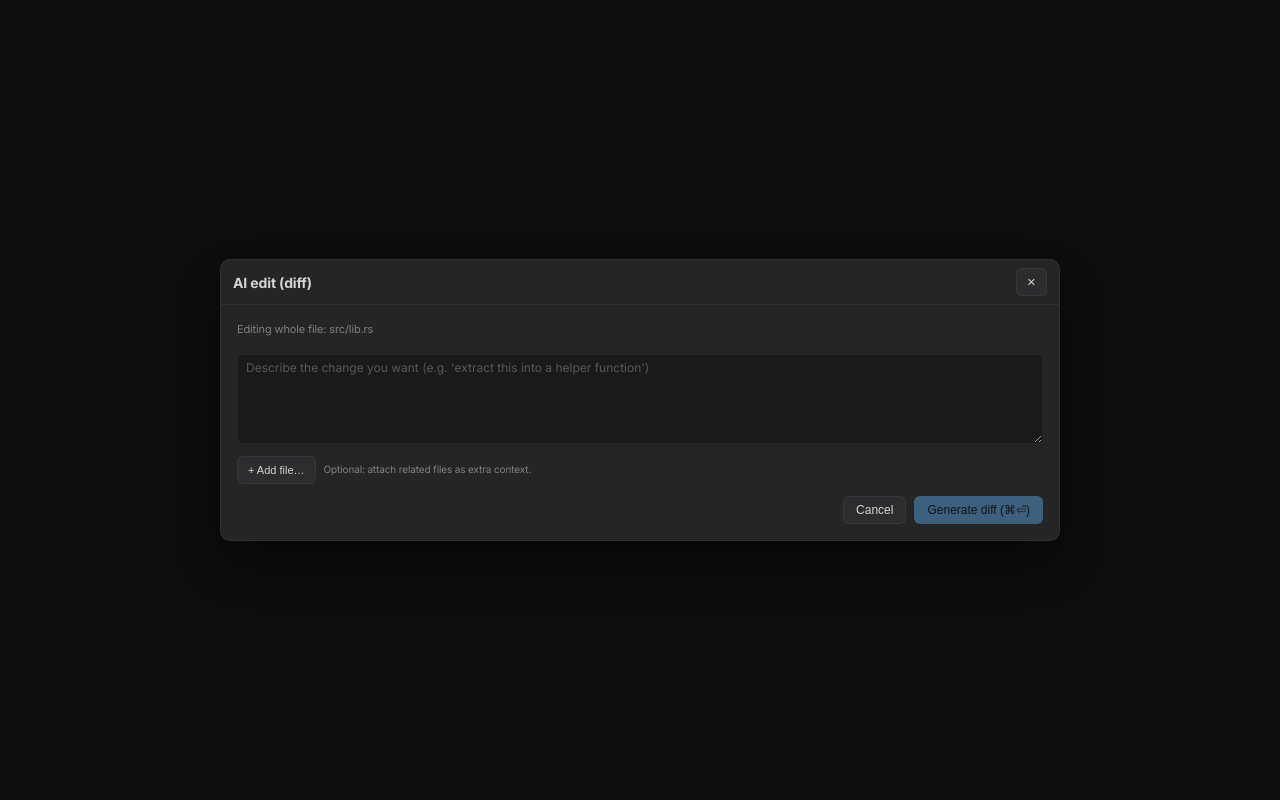
Scenario: DiffCompleteModal — flow › shows error phase when the backend returns an unclean diff
This screenshot has width=1280, height=800.
Replace the text in the text box with placeholder "Describe the change" with "x" at (640, 399), box [237,354,1043,444]
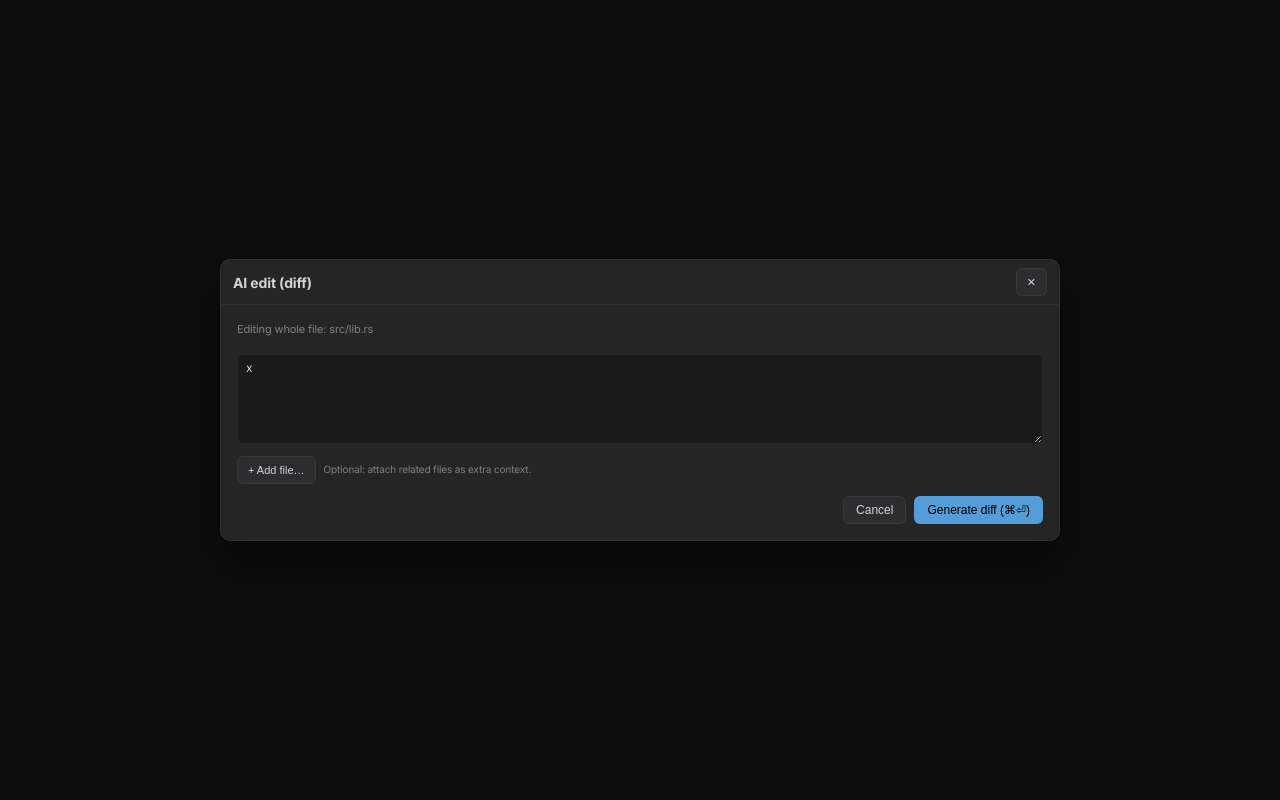
Click the button "Generate diff (⌘⏎)".
click(979, 510)  # box [914,496,1043,524]
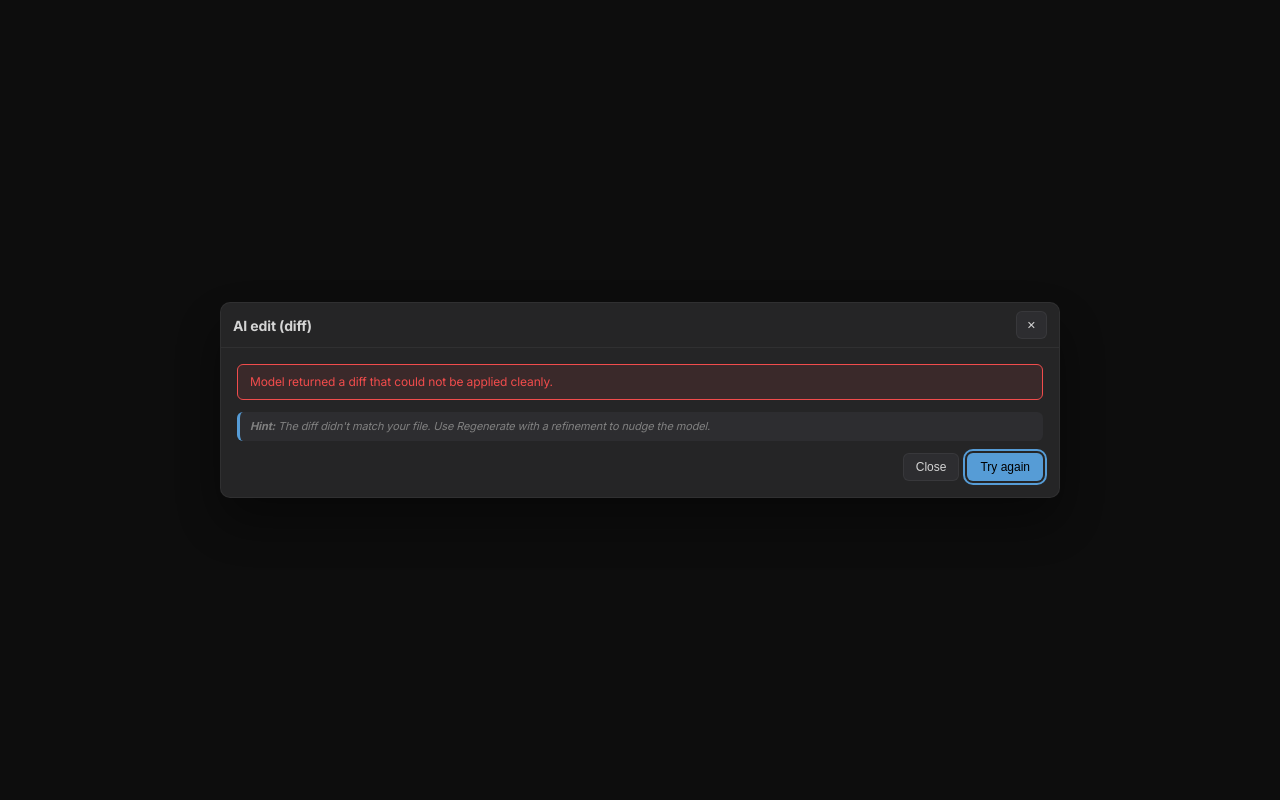
expect the text "Model returned a diff that could not be applied cleanly." is shown: met, box [237,364,1043,400]
expect the button "Try again" is shown: met, box [967,453,1043,481]
